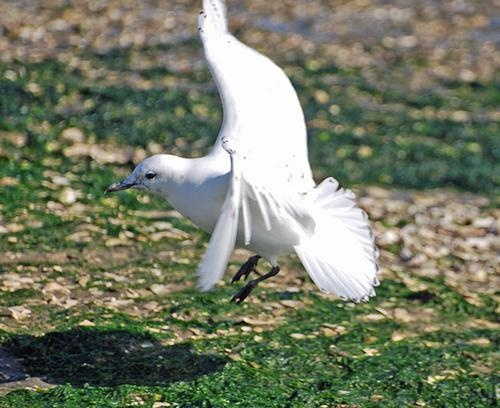bird: (100, 1, 381, 313)
